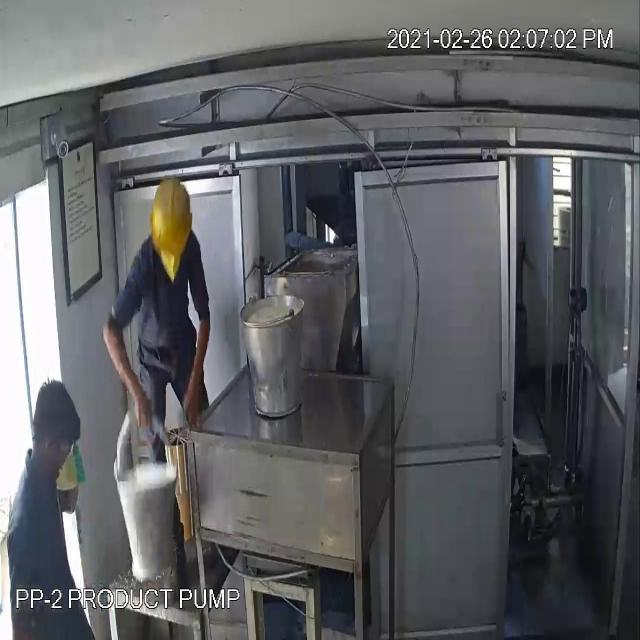hat: (148, 162, 194, 262)
no hat: (28, 368, 84, 471)
